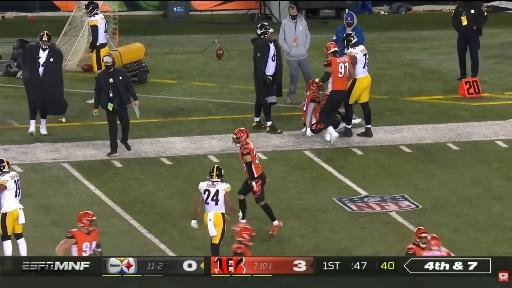Helmet: (235, 226, 255, 245), (77, 211, 96, 230), (232, 128, 249, 146), (414, 228, 428, 247), (342, 32, 357, 49), (84, 1, 99, 17), (209, 165, 223, 181), (257, 23, 273, 37), (39, 31, 52, 48), (428, 234, 441, 249), (325, 42, 338, 57), (307, 80, 322, 93), (0, 159, 9, 173)
Jersey: (199, 181, 231, 213), (324, 56, 351, 90), (0, 172, 21, 212), (66, 229, 98, 255), (239, 142, 262, 178), (347, 45, 368, 78), (302, 92, 320, 125), (88, 14, 107, 45), (38, 48, 49, 76), (231, 244, 251, 256), (406, 243, 424, 255), (419, 250, 451, 256), (326, 77, 332, 94)
Player: (232, 128, 282, 234), (191, 165, 238, 256), (314, 43, 354, 142), (343, 32, 372, 137), (0, 159, 26, 255), (56, 211, 102, 255), (84, 1, 108, 75), (302, 80, 322, 135), (302, 80, 321, 135), (231, 226, 255, 256), (420, 234, 451, 256), (406, 228, 428, 255)
